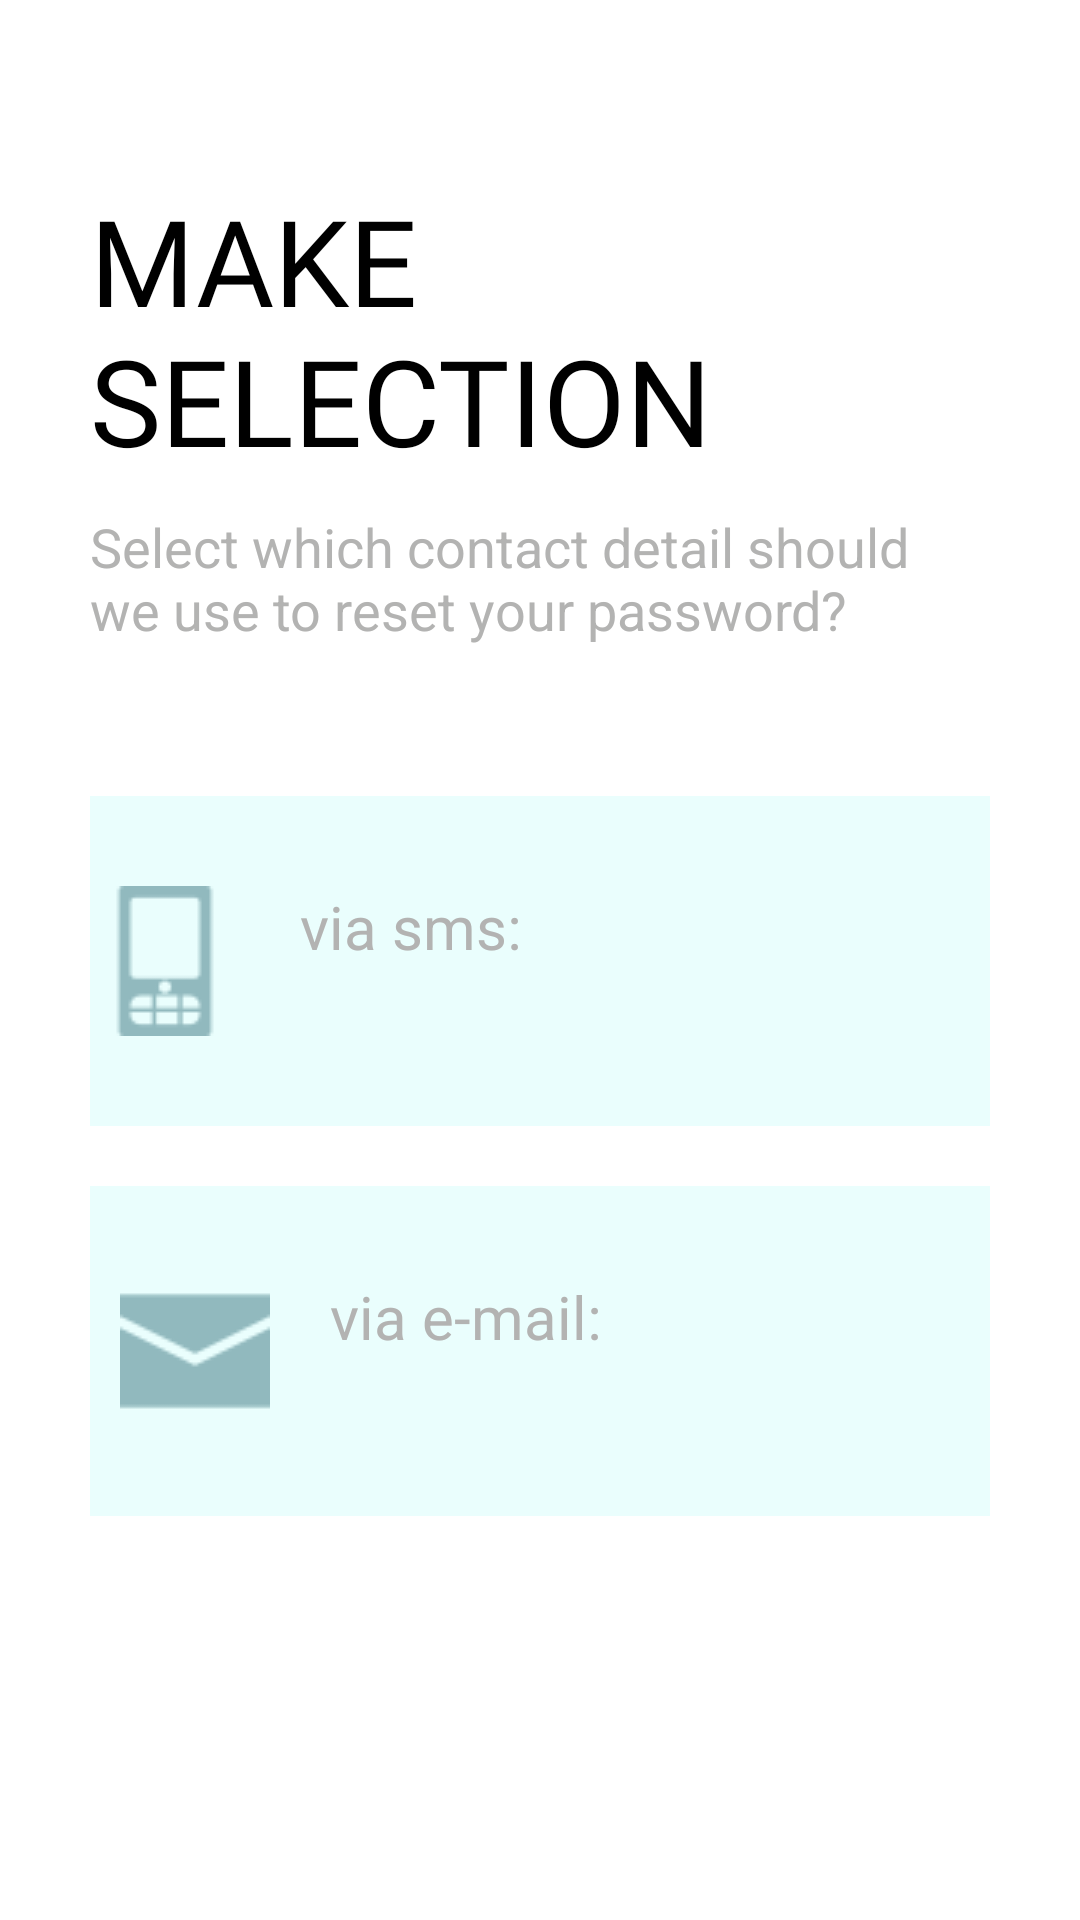

Icon bounding boxes for this 1080 × 1920 phone screenshot, format (x1, y1, x2, y2):
envelope: (120, 1294, 270, 1408)
mobilephone: (118, 886, 212, 1036)
